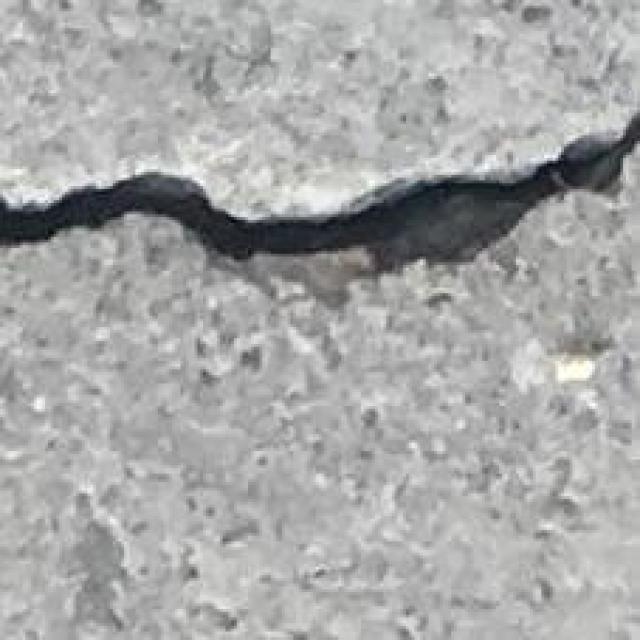Crack: (0, 100, 640, 314)
